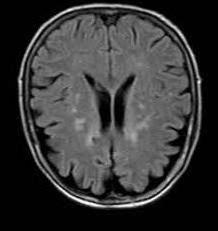Normal_Brain: (14, 1, 218, 231)
